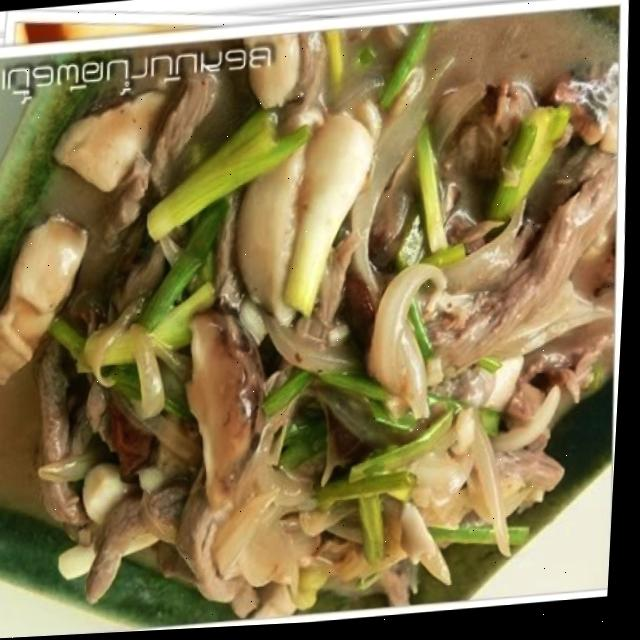牛肉菜式: (0, 49, 628, 639)
